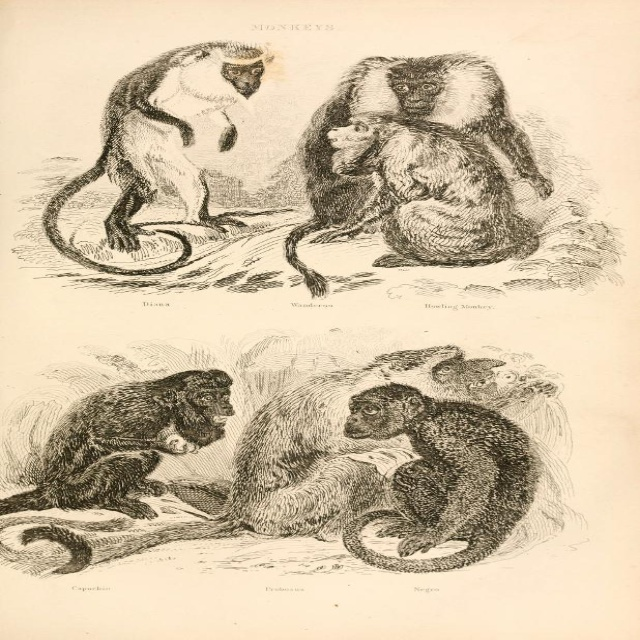Monkey: (27, 347, 509, 568), (308, 56, 560, 296), (48, 46, 299, 278), (0, 368, 231, 568), (348, 384, 542, 574), (320, 112, 543, 259)
